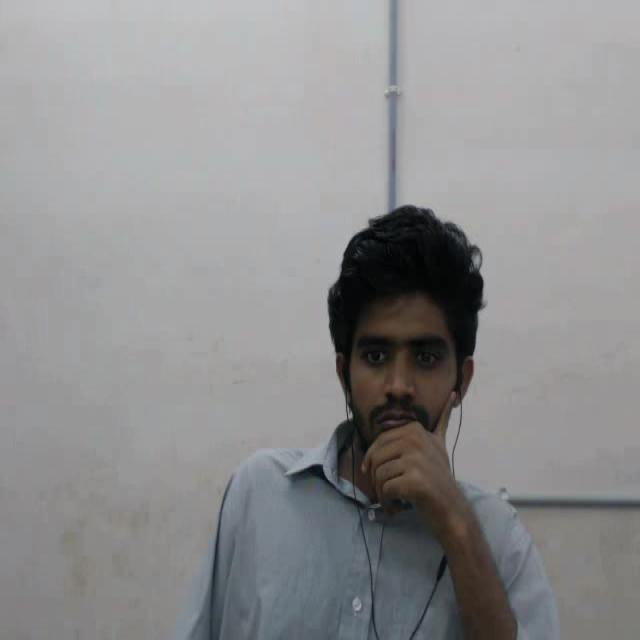Bored: (329, 184, 495, 525)
